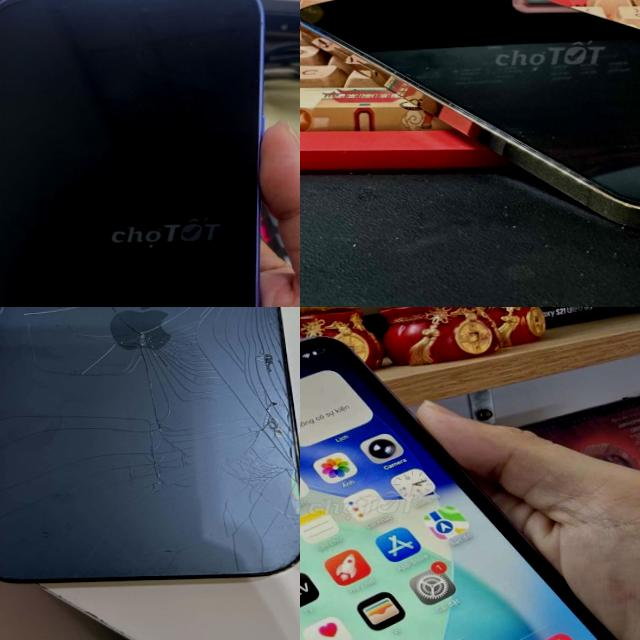gen_11: (300, 330, 640, 640)
gen_12_13: (0, 307, 300, 583), (300, 0, 640, 224)
gen_16: (0, 0, 287, 307)
physical_damage: (196, 410, 294, 535), (85, 401, 194, 495), (17, 307, 187, 364), (201, 307, 267, 412), (0, 411, 63, 514), (28, 360, 187, 398)
scratch: (132, 0, 161, 22), (51, 2, 83, 12)
